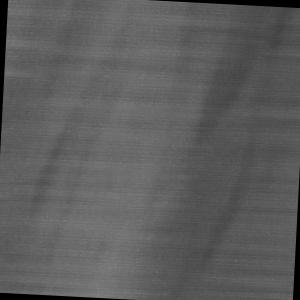Wrinkle: (171, 2, 300, 293), (6, 1, 151, 239)
